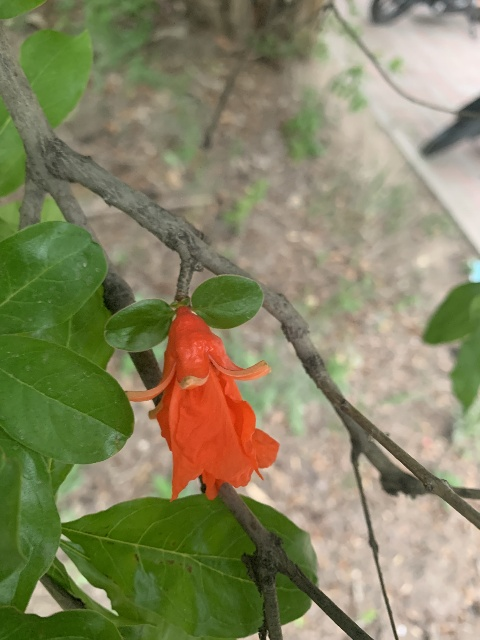flower: (126, 305, 279, 502)
